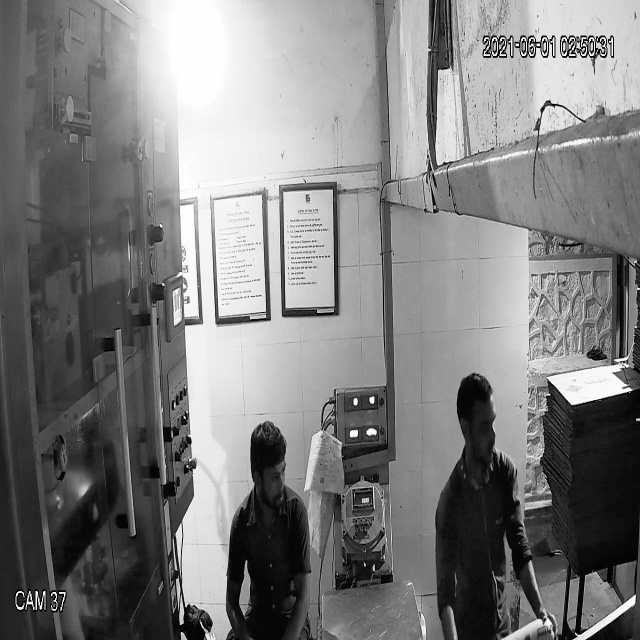Sin_gafas: (452, 409, 508, 444), (245, 460, 292, 492)
